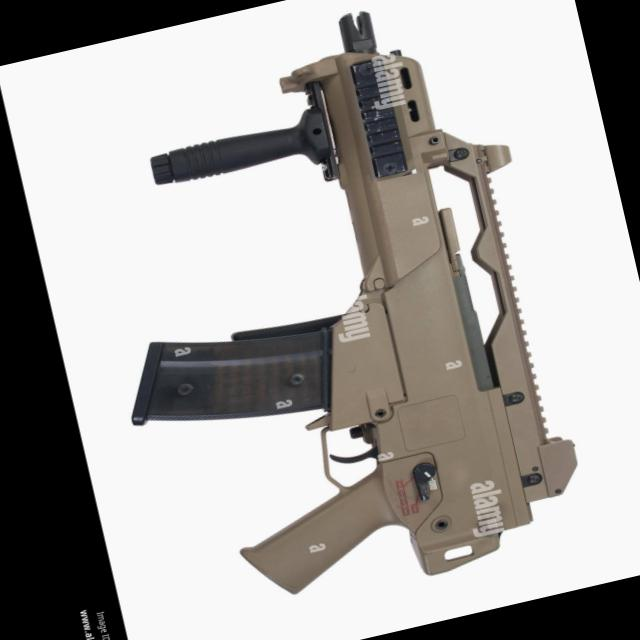long weapon: (77, 0, 606, 630)
